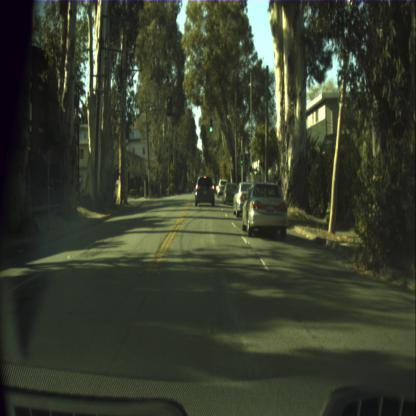Green: (209, 118, 213, 132), (240, 152, 243, 164)
